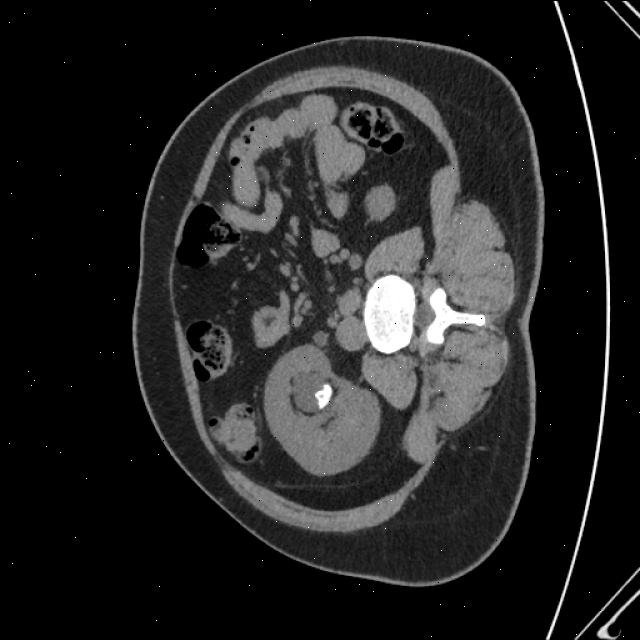kidneystone: (302, 379, 334, 415)
